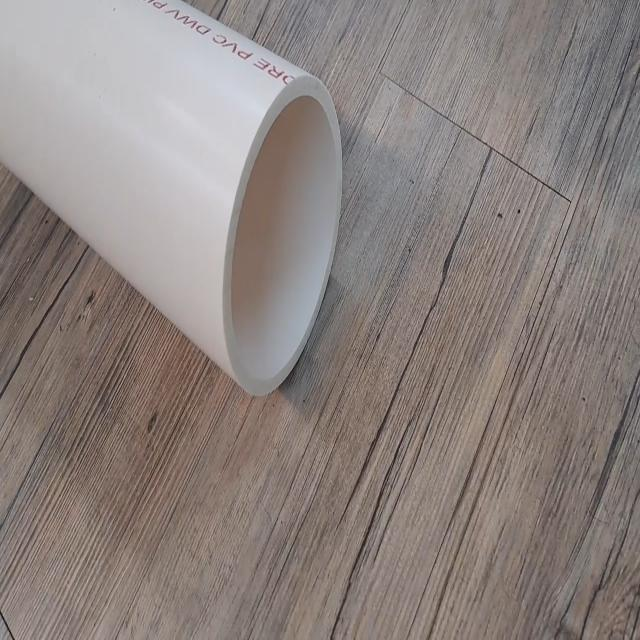CORAL: (0, 0, 349, 397)
